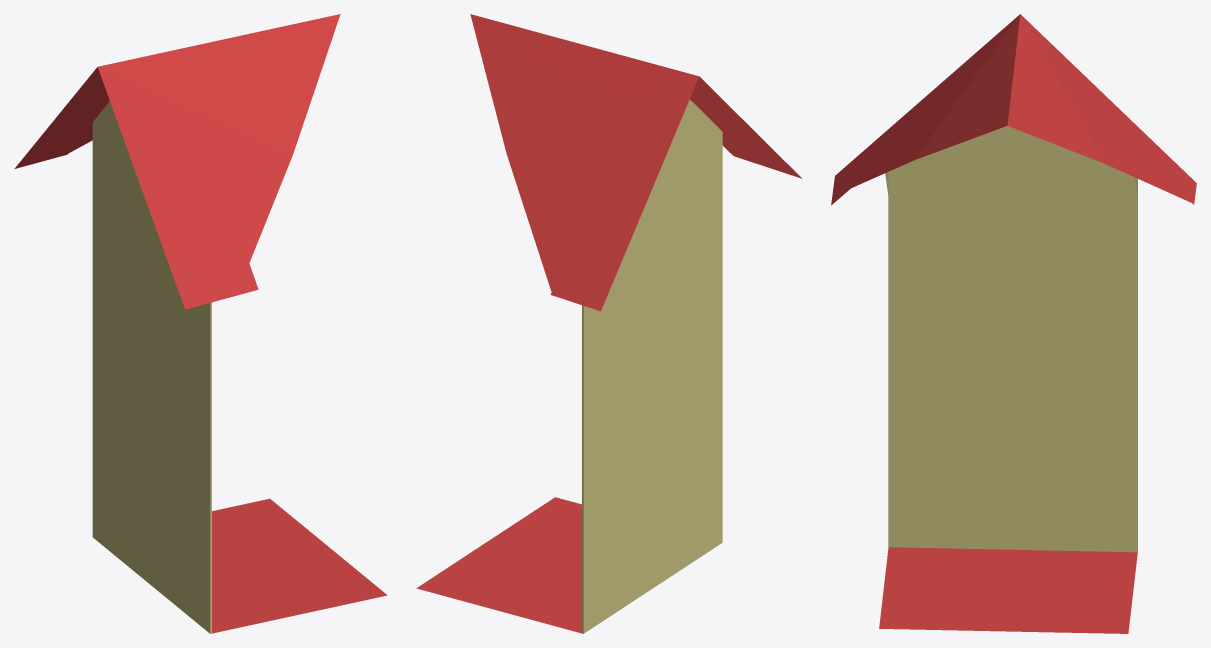
3 renders of one model, left to right at view 1: azimuth 30°, elevation 25°; view 2: azimuth 150°, elevation 25°; view 3: azimuth 270°, elevation 25°, orthographic. The views are drawn at different scales.
Size of the model in its own units: 7.28 by 9.73 by 15.03.
